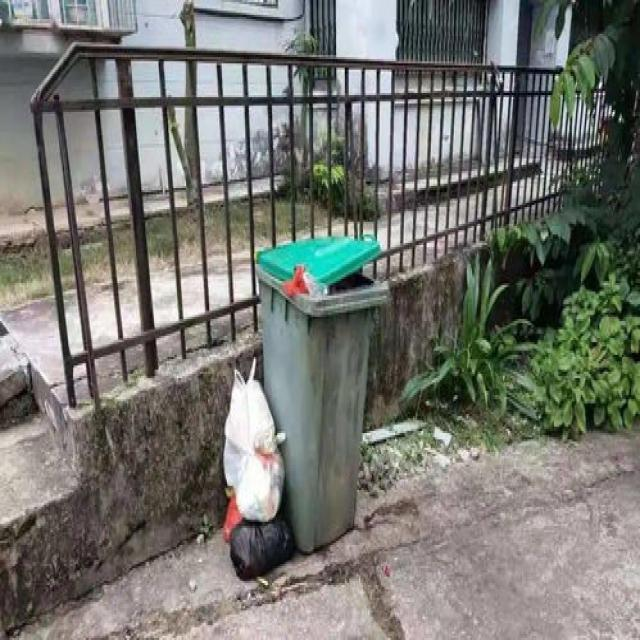garbage: (219, 355, 295, 581)
overflow: (255, 232, 388, 554)
